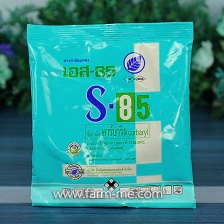insecticide: (21, 17, 201, 212)
